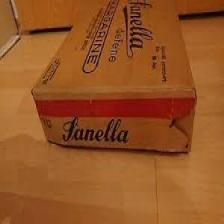cardboard: (27, 0, 202, 160)
